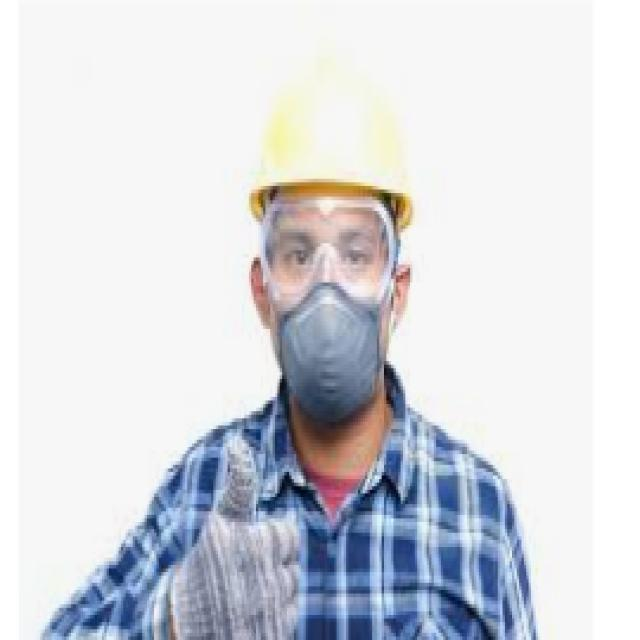glasses: (264, 207, 401, 298)
